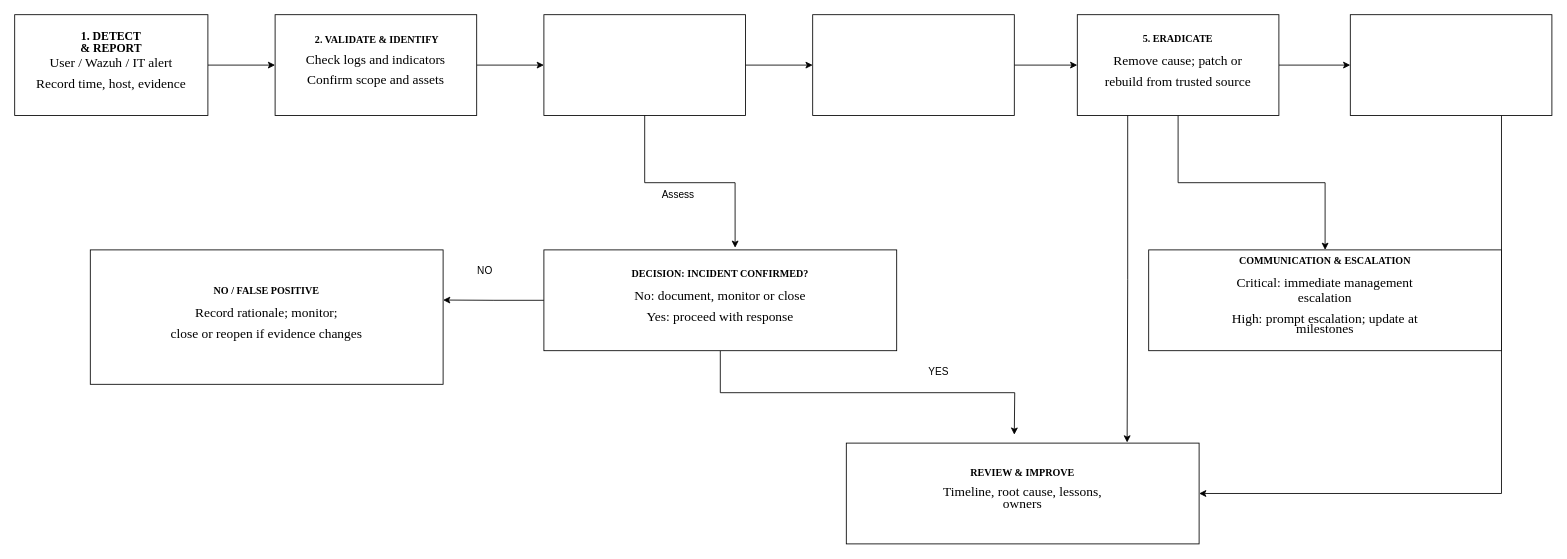
Image size: 1567x559. Some labels were removed from this diagram. The centre of each missing label's shape, as x and y in pixels:
3. CLASSIFY & ESCALATE Set Low / Medium / High / Critical; notify response lead: (x=644, y=65)
4. CONTAIN Limit spread safely Isolate/restrict if approved: (x=913, y=65)
6. RECOVER Restore, test controls, monitor for recurrence: (x=1450, y=65)
